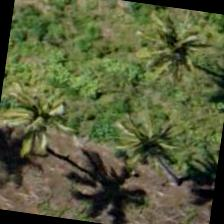Kelapa_Sawit: (114, 104, 216, 206), (107, 0, 209, 96), (0, 75, 93, 178)
